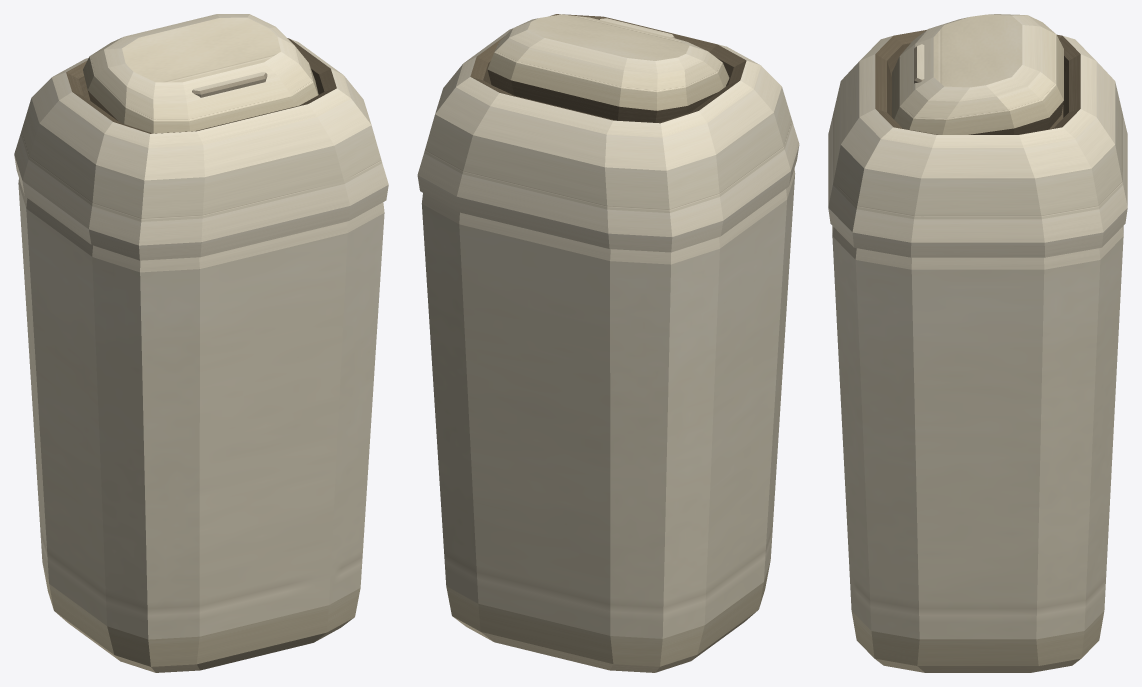
Rendered from kitchen_bin.glb.
3 renders of one model, left to right at view 1: azimuth 30°, elevation 25°; view 2: azimuth 150°, elevation 25°; view 3: azimuth 270°, elevation 25°, orthographic.
Parts seen in each view (by area): view 1: Kitchen Swing-Lid Bin; view 2: Kitchen Swing-Lid Bin; view 3: Kitchen Swing-Lid Bin.
Boxes of the visible parts, <box> form: Kitchen Swing-Lid Bin: <box>14,14,388,672</box>; Kitchen Swing-Lid Bin: <box>417,14,799,672</box>; Kitchen Swing-Lid Bin: <box>828,14,1127,672</box>.
Size of the model in its own units: 0.363 by 0.6803 by 0.321.
Materials: 1 (1 with a texture image).
